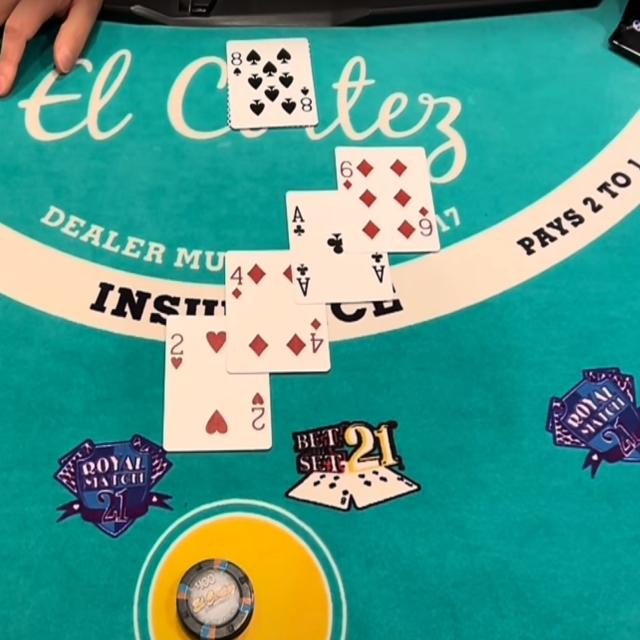2: (169, 330, 186, 356)
4: (227, 263, 246, 286)
6: (338, 158, 356, 178)
8: (229, 49, 244, 67)
A: (290, 202, 307, 224)
